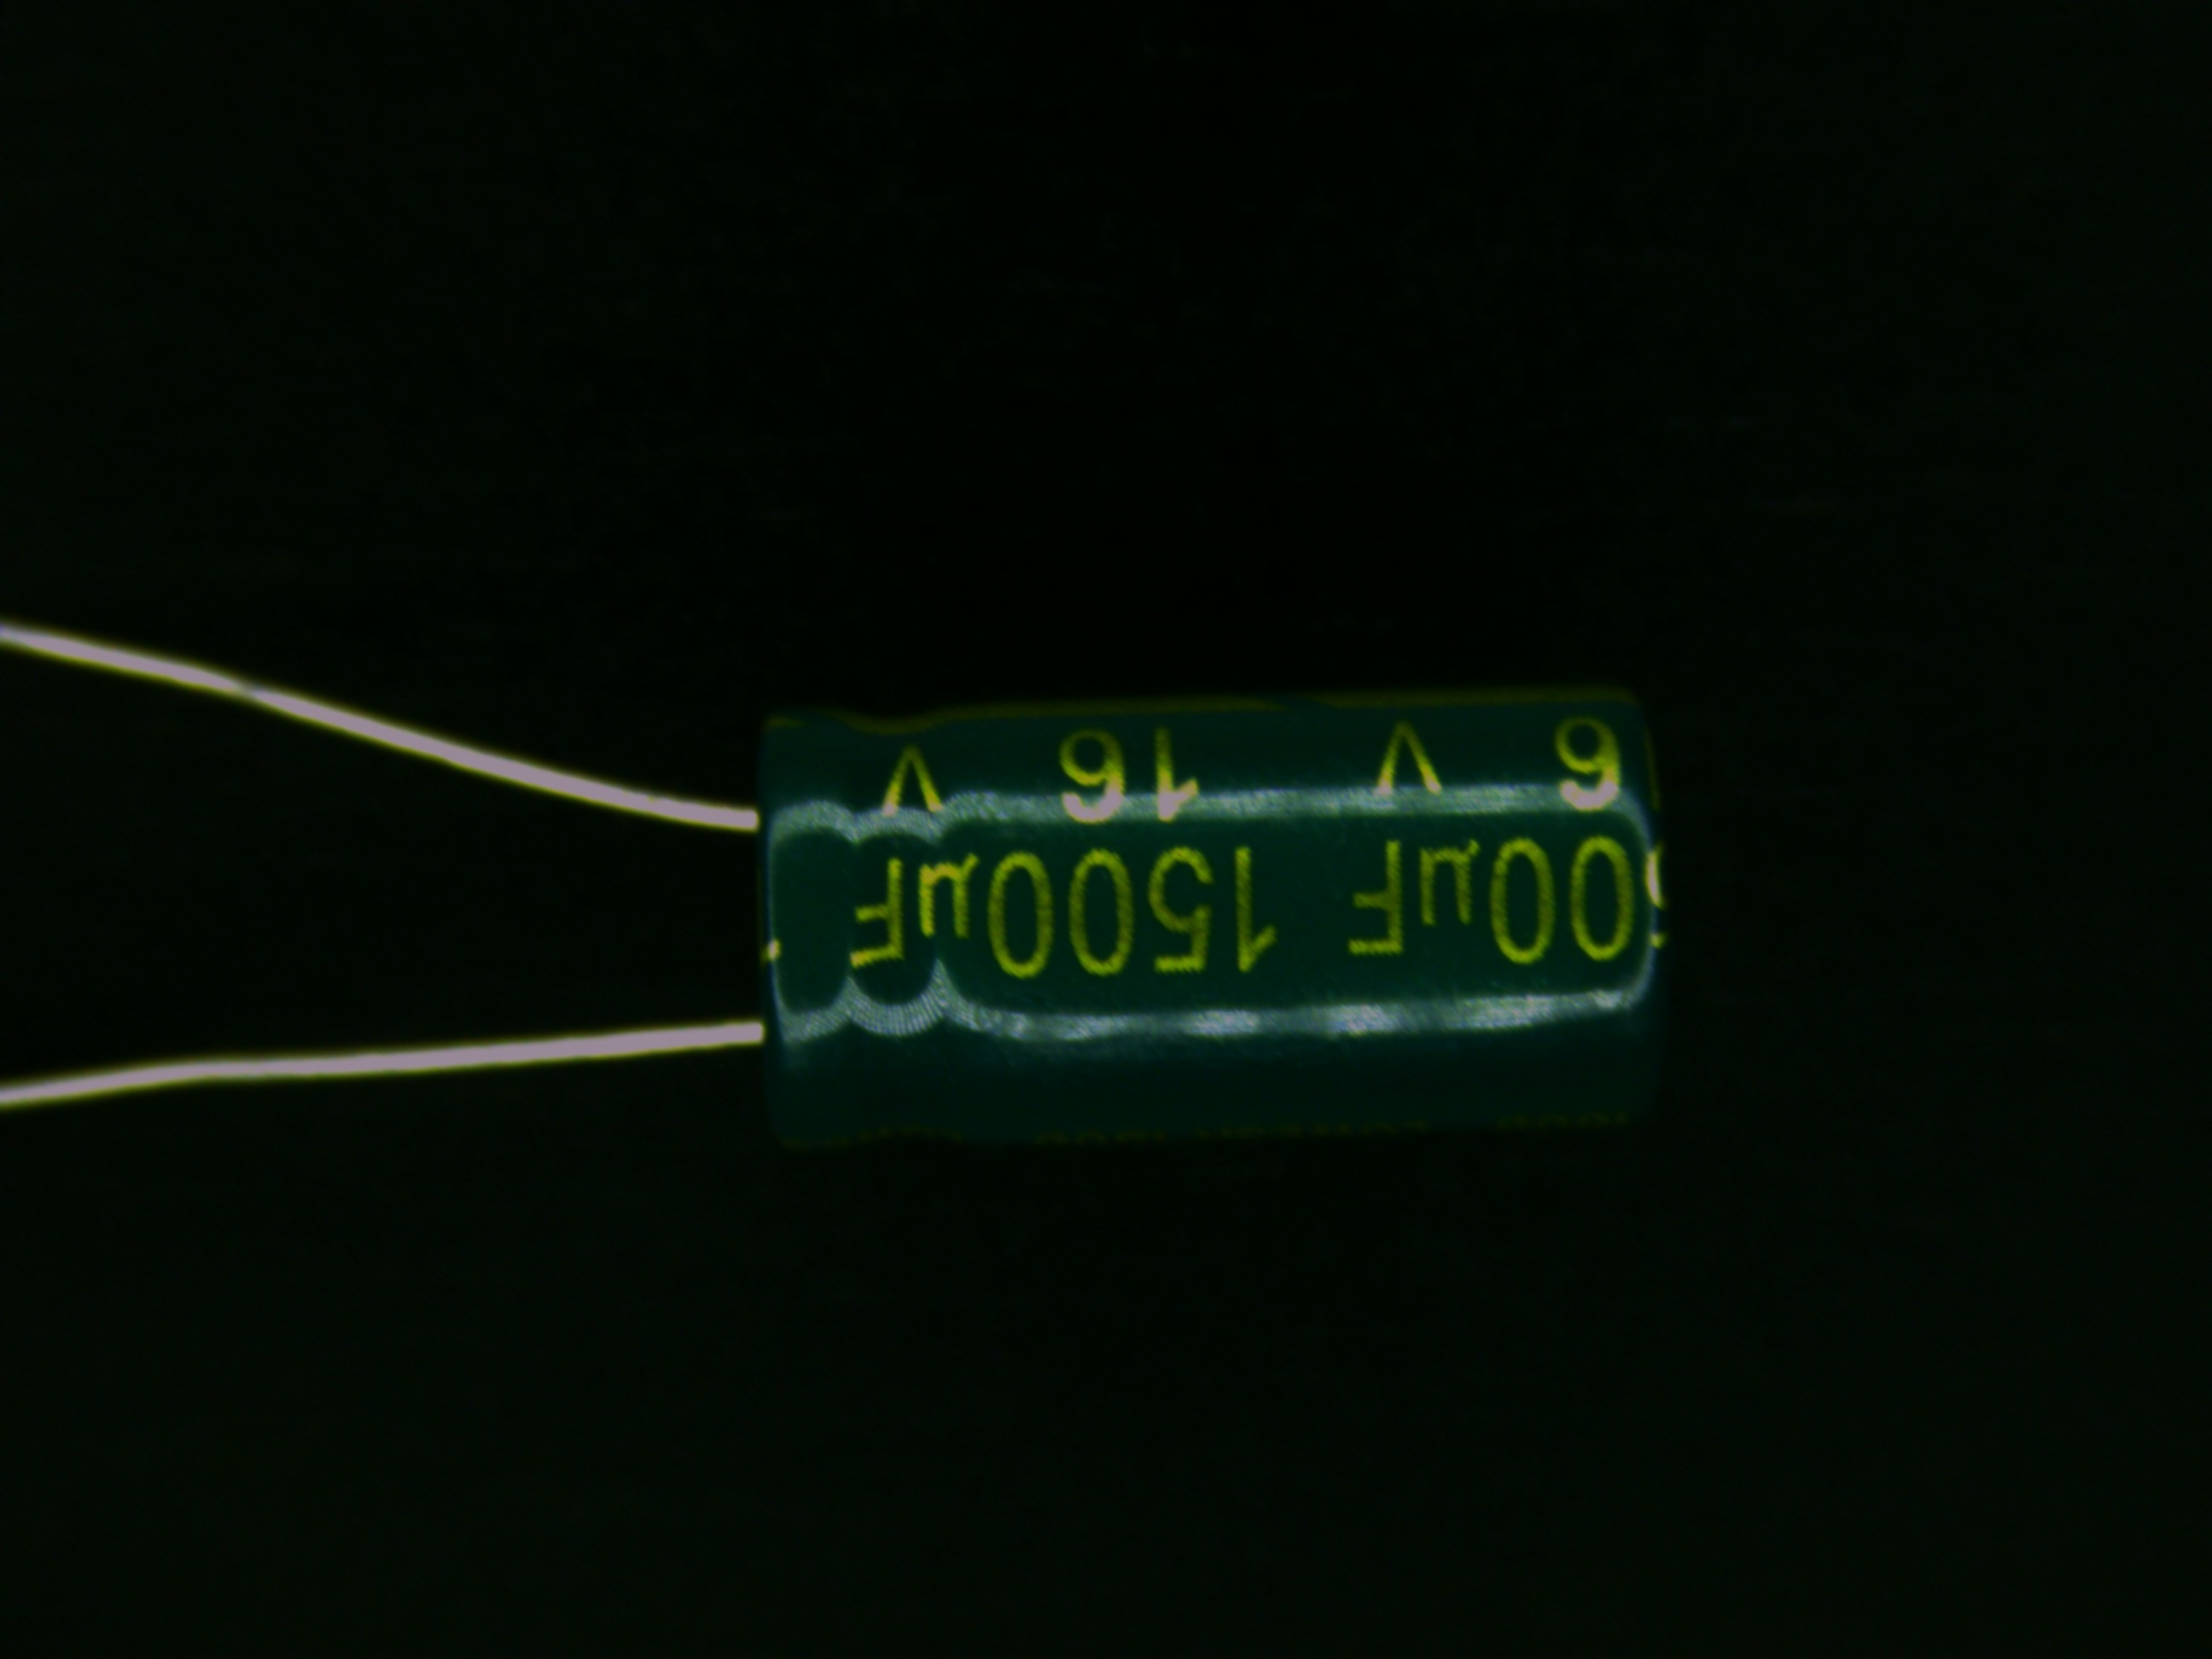c1: (559, 692, 1676, 1148)
